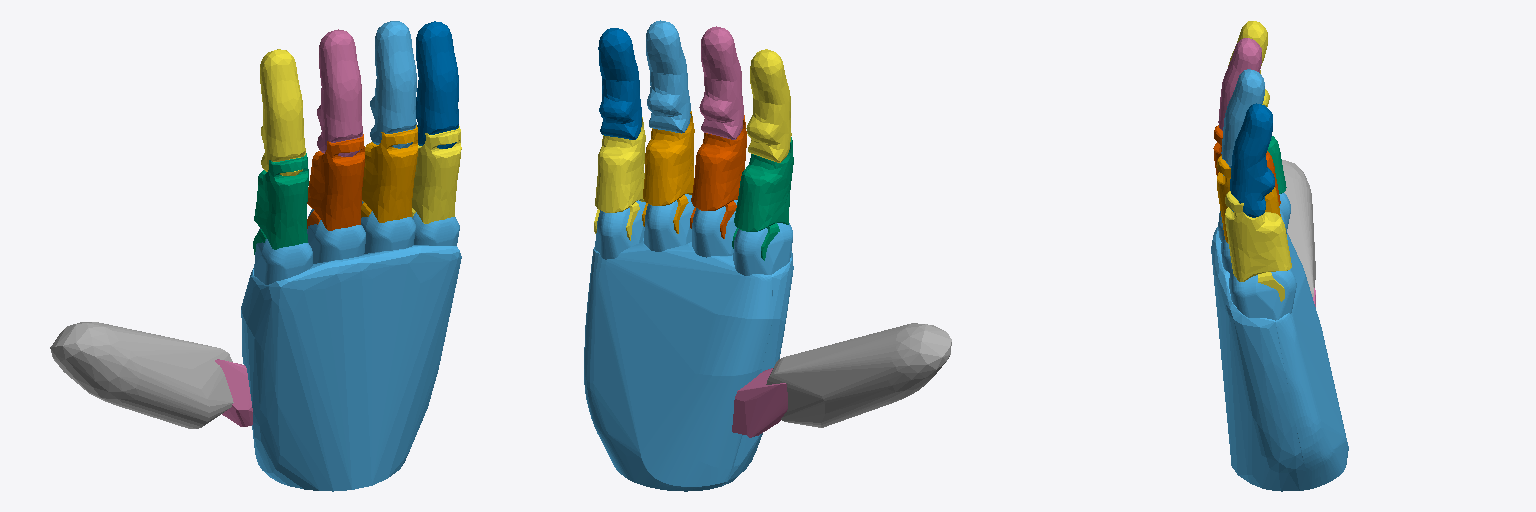
robot.urdf — ability_hand:
<!--
	NOTES:
	Units:
		Distance: m
		Angles: rad (only option)
		Mass: kg
		Inertia: kg*m^2
		
	Notes on intertia:
		-The inertias are calculated for uniform density with weights that may or may not be accurate.
		At the time of this writing only the thumb flexor weight is correct. The palm is a 'best guess' 
		approximation and the fingers are likely off by an order of magnitude
	
	Notes on finger q2:
		-The hand is a 4 bar linkage mechanism forming an 'X'. 4 bar linkages are not supported in the 
		urdf format. The motion of the second finger joint is fully defined by the motion of the first 
		finger joint. The calculation to find the index finger second joint angle given the first is provided
		in a matlab script elsewhere in this repository.
-->
<robot name="ability_hand">


	<link name="base">
		<visual name="wrist_mesh">
			<origin rpy = "0 0 0" xyz = "0 0 0"/>
			<geometry>
				<mesh filename="objects/wristmesh.obj"/>
			</geometry>
		</visual>		
		<inertial>	<!-- the mass and inertia here are NOT correct -->
			<mass value = "0.200"/>
			<inertia ixx="978.26e-6" ixy = "87.34e-6" ixz = "322.99e-6" iyy = "1244.78e-6" iyz = "244.74e-6" izz = "456.22e-6" />
			<origin xyz = "22.41911e-3 -0.15798201e-3 -0.01319866e-3" rpy = "0 0 0"/>
		</inertial>
	</link>
	<joint name="wrist2thumb" type="fixed">
		<parent link="base"/>
		<child link="thumb_base"/>
		<origin xyz = "-24.0476665e-3 3.78124745e-3 32.32964923e-3" rpy = "3.14148426 -0.08848813 -3.14036612"/>
	</joint>
  
	<link name="thumb_base" >
		<inertial>
			<mass value = "0.200"/>
			<inertia ixx="978.26e-6" ixy = "87.34e-6" ixz = "322.99e-6" iyy = "1244.78e-6" iyz = "244.74e-6" izz = "456.22e-6" />
			<origin xyz = "22.41911e-3 -0.15798201e-3 -0.01319866e-3" rpy = "0 0 0"/>
		</inertial>
						
		<visual name="palm_mesh">
			<origin rpy = "0 0 0" xyz = "0 0 0"/>
			<geometry>
				<mesh filename="objects/FB_palm_ref_MIR.obj"/>
			</geometry>
		</visual>		
	</link>
	

	
	<link name="index_L1" >
		<inertial>
			<mass value = "0.00635888"/>
			<inertia ixx="0.29766e-6" ixy = "-0.06447133e-6" ixz = "-0.00423315e-6" iyy = "3.6947967e-6" iyz = "0.00083028e-6" izz = "3.8176336e-6" />
			<origin xyz = "22.41911e-3 -0.15798201e-3 -0.01319866e-3" rpy = "0 0 0"/>
		</inertial>
		<visual name="index_mesh_1">
			<origin rpy = "0 0 0" xyz = "0 0 0"/>
			<geometry>
				<mesh filename="objects/idx-F1.obj"/>
			</geometry>
		</visual>
	</link>
	<link name="index_L2" >
		<inertial>
			<mass value = "0.00645"/>
			<inertia ixx="0.82671e-6" ixy = "-1.08876e-6" ixz = "-0.00037e-6" iyy = "1.98028e-6" iyz = "0.00081e-6" izz = "2.64638e-6" />
			<origin rpy = "0 0 0" xyz = "13.36818e-3 -8.75392e-3 -0.02886e-3"/>
		</inertial>		
		<visual name="index_mesh_2">
			<origin rpy = "0 0 0" xyz = "0 0 0"/>
			<geometry>
				<mesh filename="objects/idx-F2.obj"/>
			</geometry>
		</visual>
	</link>
	<joint name="index_q1" type="revolute">
		<parent link="thumb_base"/>
		<child link="index_L1"/>
		<origin xyz = " 9.49e-3 -13.04e-3 -62.95e-3 " rpy = " -1.1595426535897932 1.284473 -1.0510016535897932 " />
		<axis xyz="0 0 1"/>
		<limit lower = "0" upper = "2.0943951" effort = "6.0" velocity = "8.0677777442"/>		<!-- angles in rad, efforts in N-m, velocity in rad/s -->
		<dynamics damping = "0.001" friction = "0.001" />	<!-- Friction coefficient is not from quantitative measurement -->
	</joint>
	<joint name="index_q2" type="revolute">
		<parent link="index_L1"/>
		<child link="index_L2"/>
		<origin xyz = "38.472723e-3 3.257695e-3 0.000000e-3" rpy = "0 0 0.084474"/>
		<axis xyz="0 0 1"/>
		<limit lower = "0.0" upper = "2.6586" effort = "6.0" velocity = "8.0677777442"/>		<!-- angles in rad, efforts in N-m, velocity in rad/s -->
		<dynamics damping = "0.001" friction = "0.001" />	<!-- Friction coefficient is not from quantitative measurement -->
		<mimic joint = "index_q1" multiplier =  "1.05851325" offset = "0.72349796"/>
	</joint>
	<link name="index_anchor"/>
	<joint name="idx_anchor" type="fixed">
		<parent link = "index_L2"/>
		<child link = "index_anchor"/>
		<origin rpy = "0 0 0" xyz = "31.5541e-3  -10.44e-3 0.14e-3"/>
	</joint>
	

	<link name="middle_L1" >
		<inertial>
			<mass value = "0.00635888"/>
			<inertia ixx="0.29766e-6" ixy = "-0.06447133e-6" ixz = "-0.00423315e-6" iyy = "3.6947967e-6" iyz = "0.00083028e-6" izz = "3.8176336e-6" />
			<origin xyz = "22.41911e-3 -0.15798201e-3 -0.01319866e-3" rpy = "0 0 0"/>
		</inertial>
		
		<visual name="middle_mesh_1">
			<origin rpy = "0 0 0" xyz = "0 0 0"/>
			<geometry>
				<mesh filename="objects/idx-F1.obj"/>
			</geometry>
		</visual>
		
	</link>
	<link name="middle_L2" >
		<inertial>
			<mass value = "0.00645"/>
			<inertia ixx="0.82671e-6" ixy = "-1.08876e-6" ixz = "-0.00037e-6" iyy = "1.98028e-6" iyz = "0.00081e-6" izz = "2.64638e-6" />
			<origin rpy = "0 0 0" xyz = "13.36818e-3 -8.75392e-3 -0.02886e-3"/>
		</inertial>
		<visual name="middle_mesh_2">
			<origin rpy = "0 0 0" xyz = "0 0 0"/>
			<geometry>
				<mesh filename="objects/idx-F2.obj"/>
			</geometry>
		</visual>
	</link>
	<joint name="middle_q1" type="revolute">
		<parent link="thumb_base"/>
		<child link="middle_L1"/>
		<origin xyz = " -9.653191e-3 -15.310271e-3 -67.853949e-3 " rpy = " -1.2810616535897934 1.308458 -1.2453756535897933 " />
		<limit lower = "0" upper = "2.0943951" effort = "6.0" velocity = "8.0677777442"/>		<!-- angles in rad, efforts in N-m, velocity in rad/s -->
		<dynamics damping = "0.001" friction = "0.001" />	<!-- Friction coefficient is not from quantitative measurement -->
		<axis xyz="0 0 1"/>
	</joint>
	<joint name="middle_q2" type="revolute">
		<parent link="middle_L1"/>
		<child link="middle_L2"/>
		<origin xyz = "38.472723e-3 3.257695e-3 0.000000" rpy = "0 0 0.084474"/>
		<axis xyz="0 0 1"/>
		<limit lower = "0.0" upper = "2.6586" effort = "6.0" velocity = "8.0677777442"/>		<!-- angles in rad, efforts in N-m, velocity in rad/s -->
		<dynamics damping = "0.001" friction = "0.001" />	<!-- Friction coefficient is not from quantitative measurement -->
		<mimic joint = "middle_q1" multiplier =  "1.05851325" offset = "0.72349796"/>
	</joint>
	<link name="middle_anchor"/>
	<joint name="mid_anchor" type="fixed">
		<parent link = "middle_L2"/>
		<child link = "middle_anchor"/>
		<origin rpy = "0 0 0" xyz = "31.5541e-3  -10.44e-3 0.14e-3"/>
	</joint>





	<link name="ring_L1" >
		<inertial>
			<mass value = "0.00635888"/>
			<inertia ixx="0.29766e-6" ixy = "-0.06447133e-6" ixz = "-0.00423315e-6" iyy = "3.6947967e-6" iyz = "0.00083028e-6" izz = "3.8176336e-6" />
			<origin xyz = "22.41911e-3 -0.15798201e-3 -0.01319866e-3" rpy = "0 0 0"/>
		</inertial>
		
		<visual name="ring_mesh_1">
			<origin rpy = "0 0 0" xyz = "0 0 0"/>
			<geometry>
				<mesh filename="objects/idx-F1.obj"/>
			</geometry>
		</visual>
	</link>
	<link name="ring_L2" >
		<inertial>
			<mass value = "0.00645"/>
			<inertia ixx="0.82671e-6" ixy = "-1.08876e-6" ixz = "-0.00037e-6" iyy = "1.98028e-6" iyz = "0.00081e-6" izz = "2.64638e-6" />
			<origin rpy = "0 0 0" xyz = "13.36818e-3 -8.75392e-3 -0.02886e-3"/>
		</inertial>
		<visual name="ring_mesh_2">
			<origin rpy = "0 0 0" xyz = "0 0 0"/>
			<geometry>
				<mesh filename="objects/idx-F2.obj"/>
			</geometry>
		</visual>		
	</link>
	<joint name="ring_q1" type="revolute">
		<parent link="thumb_base"/>
		<child link="ring_L1"/>
		<origin xyz = " -29.95426e-3 -14.212492e-3 -67.286105e-3 " rpy = " -1.424994653589793 1.321452 -1.4657306535897934 " />
		<limit lower = "0" upper = "2.0943951" effort = "6.0" velocity = "8.0677777442"/>		<!-- angles in rad, efforts in N-m, velocity in rad/s -->
		<dynamics damping = "0.001" friction = "0.001" />	<!-- Friction coefficient is not from quantitative measurement -->
		<axis xyz="0 0 1"/>
	</joint>
	<joint name="ring_q2" type="revolute">
		<parent link="ring_L1"/>
		<child link="ring_L2"/>
		<origin xyz = "38.472723e-3 3.257695e-3 0.000000" rpy = "0 0 0.084474"/>
		<axis xyz="0 0 1"/>
		<limit lower = "0.0" upper = "2.6586" effort = "6.0" velocity = "8.0677777442"/>		<!-- angles in rad, efforts in N-m, velocity in rad/s -->
		<dynamics damping = "0.001" friction = "0.001" />	<!-- Friction coefficient is not from quantitative measurement -->
		<mimic joint = "ring_q1" multiplier =  "1.05851325" offset = "0.72349796"/>
	</joint>
	<link name="ring_anchor"/>
	<joint name="rng_anchor" type="fixed">
		<parent link = "ring_L2"/>
		<child link = "ring_anchor"/>
		<origin rpy = "0 0 0" xyz = "31.5541e-3  -10.44e-3 0.14e-3"/>
	</joint>







	<link name="pinky_L1" >
		<inertial>
			<mass value = "0.00635888"/>
			<inertia ixx="0.29766e-6" ixy = "-0.06447133e-6" ixz = "-0.00423315e-6" iyy = "3.6947967e-6" iyz = "0.00083028e-6" izz = "3.8176336e-6" />
			<origin xyz = "22.41911e-3 -0.15798201e-3 -0.01319866e-3" rpy = "0 0 0"/>
		</inertial>
		
		<visual name="pinky_mesh_1">
			<origin rpy = "0 0 0" xyz = "0 0 0"/>
			<geometry>
				<mesh filename="objects/idx-F1.obj"/>
			</geometry>
		</visual>
		
	</link>
	<link name="pinky_L2" >
		<inertial>
			<mass value = "0.00645"/>
			<inertia ixx="0.82671e-6" ixy = "-1.08876e-6" ixz = "-0.00037e-6" iyy = "1.98028e-6" iyz = "0.00081e-6" izz = "2.64638e-6" />
			<origin rpy = "0 0 0" xyz = "13.36818e-3 -8.75392e-3 -0.02886e-3"/>
		</inertial>
		<visual name="pinky_mesh_2">
			<origin rpy = "0 0 0" xyz = "0 0 0"/>
			<geometry>
				<mesh filename="objects/idx-F2.obj"/>
			</geometry>
		</visual>
		
	</link>
	<joint name="pinky_q1" type="revolute">
		<parent link="thumb_base"/>
		<child link="pinky_L1"/>
		<origin xyz = " -49.521293e-3 -11.004583e-3 -63.029065e-3 " rpy = " -1.3764826535897934 1.32222 -1.4832096535897932 " />
		<limit lower = "0" upper = "2.0943951" effort = "6.0" velocity = "8.0677777442"/>		<!-- angles in rad, efforts in N-m, velocity in rad/s -->
		<dynamics damping = "0.001" friction = "0.001" />	<!-- Friction coefficient is not from quantitative measurement -->
		<axis xyz="0 0 1"/>
	</joint>
	<joint name="pinky_q2" type="revolute">
		<parent link="pinky_L1"/>
		<child link="pinky_L2"/>
		<origin xyz = "38.472723e-3 3.257695e-3 0.000000" rpy = "0 0 0.084474"/>
		<limit lower = "0.0" upper = "2.6586" effort = "6.0" velocity = "8.0677777442"/>		<!-- angles in rad, efforts in N-m, velocity in rad/s -->
		<dynamics damping = "0.001" friction = "0.001" />	<!-- Friction coefficient is not from quantitative measurement -->
		<axis xyz="0 0 1"/>
		<mimic joint = "pinky_q1" multiplier =  "1.05851325" offset = "0.72349796"/>
	</joint>
	<link name="pinky_anchor"/>
	<joint name="pnky_anchor" type="fixed">
		<parent link = "pinky_L2"/>
		<child link = "pinky_anchor"/>
		<origin rpy = "0 0 0" xyz = "31.5541e-3  -10.44e-3 0.14e-3"/>
	</joint>






	<link name="thumb_L1" >
		<inertial>
			<mass value = "0.00268342"/>
			<inertia ixx="0.16931e-6" ixy = "-0.076214e-6" ixz = "-0.16959148e-6" iyy = "0.77769934e-6" iyz = "0.0156622e-6" izz = "0.7249122e-6" />
			<origin rpy = "0 0 0" xyz = "14.606e-3 -1.890854e-3 -3.1155356e-3"/>
		</inertial>
		
		<visual name="thumb_mesh_1">
			<origin rpy = "0 0 0" xyz = "0 0 0"/>
			<geometry>
				<mesh filename="objects/thumb-F1-MIR.obj"/>
			</geometry>
		</visual>
		
	</link>
	<link name="thumb_L2" >
		<inertial>
			<mass value = "0.0055"/>
			<inertia ixx="4.4789082e-6" ixy = "4.4789082e-6" ixz = "-0.62144934e-6" iyy = "15.600996e-6" iyz = "-0.07466143e-6" izz = "17.908554e-6" />
			<origin rpy = "0 0 0" xyz = "30.020522e-3 5.59476e-3 -4.1504356e-3"/>
		</inertial>
		
		<visual name="thumb_mesh_2">
			<origin rpy = "0 0 0" xyz = "0 0 0"/>
			<geometry>
				<mesh filename="objects/thumb-F2-right.obj"/>
			</geometry>
		</visual>
		
	</link>
	<joint name="thumb_q1" type="revolute">
		<parent link="thumb_base"/>
		<child link="thumb_L1"/>
		<origin xyz = " 0.0 0.0 0.0 " rpy = " 3.141592653589793 -0.0 -0.18884434641020664 " />
		<axis xyz="0 0 1"/>
		<limit lower = "-2.0943951" upper = "0" effort = "1.2" velocity = "40.338888721"/>		<!-- angles in rad, efforts in N-m, velocity in rad/s -->
		<dynamics damping = "0.001" friction = "0.001" />	<!-- Friction coefficient is not from quantitative measurement -->
	</joint>
	<joint name="thumb_q2" type="revolute">
		<parent link="thumb_L1"/>
		<child link="thumb_L2"/>
		<origin xyz = " 27.8283501e-3 1.7436510745838653e-19 14.7507e-3 " rpy = " 1.832595714594045 -0.0 5.366520605522463e-18 " />
		<axis xyz="0 0 1"/>
		<limit lower = "0" upper = "2.0943951" effort = "6.0" velocity = "8.0677777442"/>		<!-- angles in rad, efforts in N-m, velocity in rad/s -->
		<dynamics damping = "0.001" friction = "0.001" />	<!-- Friction coefficient is not from quantitative measurement -->		
	</joint>
	<link name="thumb_anchor"/>
	<joint name="thmb_anchor" type="fixed">
		<parent link = "thumb_L2"/>
		<child link = "thumb_anchor"/>
		<origin rpy = "0 0 0" xyz = "52.00122724e-3 28.00869333e-3 6.98483578e-3"/>
	</joint>

	<sensor name="fsr1">

		<parent link = "index_L2"/>

		<origin xyz = "[ 0.03095037 -0.01554447  0.        ]" rpy = "[-1.57079633  1.17944437 -1.57079633]"/>

	</sensor>


	<sensor name="fsr2">

		<parent link = "index_L2"/>

		<origin xyz = "[ 0.02510623 -0.01157959  0.        ]" rpy = "[ 1.57079633 -0.25241514  1.57079633]"/>

	</sensor>


	<sensor name="fsr3">

		<parent link = "index_L2"/>

		<origin xyz = "[ 0.02702797 -0.01495401  0.004     ]" rpy = "[-1.57079633  0.50535705 -1.57079633]"/>

	</sensor>


	<sensor name="fsr4">

		<parent link = "index_L2"/>

		<origin xyz = "[ 0.01284956 -0.00967365  0.004     ]" rpy = "[-1.57079633  0.64531527 -1.57079633]"/>

	</sensor>


	<sensor name="fsr5">

		<parent link = "index_L2"/>

		<origin xyz = "[ 0.02702797 -0.01495401 -0.004     ]" rpy = "[-1.57079633  0.50535705 -1.57079633]"/>

	</sensor>


	<sensor name="fsr6">

		<parent link = "index_L2"/>

		<origin xyz = "[ 0.02702797 -0.01495401 -0.004     ]" rpy = "[-1.57079633  0.50535705 -1.57079633]"/>

	</sensor>


	<sensor name="fsr7">

		<parent link = "middle_L2"/>

		<origin xyz = "[ 0.03095037 -0.01554447  0.        ]" rpy = "[-1.57079633  1.17944437 -1.57079633]"/>

	</sensor>


	<sensor name="fsr8">

		<parent link = "middle_L2"/>

		<origin xyz = "[ 0.02510623 -0.01157959  0.        ]" rpy = "[ 1.57079633 -0.25241514  1.57079633]"/>

	</sensor>


	<sensor name="fsr9">

		<parent link = "middle_L2"/>

		<origin xyz = "[ 0.02702797 -0.01495401  0.004     ]" rpy = "[-1.57079633  0.50535705 -1.57079633]"/>

	</sensor>


	<sensor name="fsr10">

		<parent link = "middle_L2"/>

		<origin xyz = "[ 0.01284956 -0.00967365  0.004     ]" rpy = "[-1.57079633  0.64531527 -1.57079633]"/>

	</sensor>


	<sensor name="fsr11">

		<parent link = "middle_L2"/>

		<origin xyz = "[ 0.02702797 -0.01495401 -0.004     ]" rpy = "[-1.57079633  0.50535705 -1.57079633]"/>

	</sensor>


	<sensor name="fsr12">

		<parent link = "middle_L2"/>

		<origin xyz = "[ 0.02702797 -0.01495401 -0.004     ]" rpy = "[-1.57079633  0.50535705 -1.57079633]"/>

	</sensor>


	<sensor name="fsr13">

		<parent link = "ring_L2"/>

		<origin xyz = "[ 0.03095037 -0.01554447  0.        ]" rpy = "[-1.57079633  1.17944437 -1.57079633]"/>

	</sensor>


	<sensor name="fsr14">

		<parent link = "ring_L2"/>

		<origin xyz = "[ 0.02510623 -0.01157959  0.        ]" rpy = "[ 1.57079633 -0.25241514  1.57079633]"/>

	</sensor>


	<sensor name="fsr15">

		<parent link = "ring_L2"/>

		<origin xyz = "[ 0.02702797 -0.01495401  0.004     ]" rpy = "[-1.57079633  0.50535705 -1.57079633]"/>

	</sensor>


	<sensor name="fsr16">

		<parent link = "ring_L2"/>

		<origin xyz = "[ 0.01284956 -0.00967365  0.004     ]" rpy = "[-1.57079633  0.64531527 -1.57079633]"/>

	</sensor>


	<sensor name="fsr17">

		<parent link = "ring_L2"/>

		<origin xyz = "[ 0.02702797 -0.01495401 -0.004     ]" rpy = "[-1.57079633  0.50535705 -1.57079633]"/>

	</sensor>


	<sensor name="fsr18">

		<parent link = "ring_L2"/>

		<origin xyz = "[ 0.02702797 -0.01495401 -0.004     ]" rpy = "[-1.57079633  0.50535705 -1.57079633]"/>

	</sensor>


	<sensor name="fsr19">

		<parent link = "pinky_L2"/>

		<origin xyz = "[ 0.03095037 -0.01554447  0.        ]" rpy = "[-1.57079633  1.17944437 -1.57079633]"/>

	</sensor>


	<sensor name="fsr20">

		<parent link = "pinky_L2"/>

		<origin xyz = "[ 0.02510623 -0.01157959  0.        ]" rpy = "[ 1.57079633 -0.25241514  1.57079633]"/>

	</sensor>


	<sensor name="fsr21">

		<parent link = "pinky_L2"/>

		<origin xyz = "[ 0.02702797 -0.01495401  0.004     ]" rpy = "[-1.57079633  0.50535705 -1.57079633]"/>

	</sensor>


	<sensor name="fsr22">

		<parent link = "pinky_L2"/>

		<origin xyz = "[ 0.01284956 -0.00967365  0.004     ]" rpy = "[-1.57079633  0.64531527 -1.57079633]"/>

	</sensor>


	<sensor name="fsr23">

		<parent link = "pinky_L2"/>

		<origin xyz = "[ 0.02702797 -0.01495401 -0.004     ]" rpy = "[-1.57079633  0.50535705 -1.57079633]"/>

	</sensor>


	<sensor name="fsr24">

		<parent link = "pinky_L2"/>

		<origin xyz = "[ 0.02702797 -0.01495401 -0.004     ]" rpy = "[-1.57079633  0.50535705 -1.57079633]"/>

	</sensor>


	<sensor name="fsr25">

		<parent link = "thumb_L2"/>

		<origin xyz = "[0.055422 0.023513 0.005055]" rpy = "[-1.57079633 -0.40123853 -1.57079633]"/>

	</sensor>


	<sensor name="fsr26">

		<parent link = "thumb_L2"/>

		<origin xyz = "[0.047909 0.02312  0.005728]" rpy = "[-1.57079633 -0.44961601 -1.57079633]"/>

	</sensor>


	<sensor name="fsr27">

		<parent link = "thumb_L2"/>

		<origin xyz = "[ 0.048227  0.022352 -0.000805]" rpy = "[-1.57079633 -0.43229053 -1.57079633]"/>

	</sensor>


	<sensor name="fsr28">

		<parent link = "thumb_L2"/>

		<origin xyz = "[ 0.036868  0.017111 -0.001369]" rpy = "[nan nan nan]"/>

	</sensor>


	<sensor name="fsr29">

		<parent link = "thumb_L2"/>

		<origin xyz = "[0.049435 0.019437 0.01097 ]" rpy = "[-1.57079633 -0.44946695 -1.57079633]"/>

	</sensor>


	<sensor name="fsr30">

		<parent link = "thumb_L2"/>

		<origin xyz = "[0.038158 0.013997 0.011211]" rpy = "[nan nan nan]"/>

	</sensor>




</robot>

--- What the picture shows (computed from the rendered views, not written in the file) ---
3 views of the same robot in one strip: view 1: azimuth 30°, elevation 25°; view 2: azimuth 150°, elevation 25°; view 3: azimuth 270°, elevation 25° (orthographic).
Model ability_hand with 17 links and 16 joints (10 revolute, 6 fixed), rooted at base, posed every joint at zero.
Visible links, largest first — view 1: thumb_base, thumb_L2, ring_L2, middle_L2, pinky_L2, index_L2, middle_L1, ring_L1, index_L1, pinky_L1, thumb_L1; view 2: thumb_base, thumb_L2, ring_L2, middle_L2, index_L2, pinky_L2, index_L1, ring_L1, middle_L1, pinky_L1, thumb_L1; view 3: thumb_base, pinky_L1, pinky_L2, thumb_L2, ring_L2, middle_L2, ring_L1, index_L2.
Boxes of the visible links, <box> form: thumb_base: <box>241,201,461,491</box>; thumb_L2: <box>50,322,233,428</box>; ring_L2: <box>370,21,416,148</box>; middle_L2: <box>317,29,362,156</box>; pinky_L2: <box>416,21,458,148</box>; index_L2: <box>260,49,305,175</box>; middle_L1: <box>307,134,364,230</box>; ring_L1: <box>361,125,417,222</box>; index_L1: <box>253,153,308,254</box>; pinky_L1: <box>412,126,461,223</box>; thumb_L1: <box>215,359,252,426</box>; thumb_base: <box>584,194,793,491</box>; thumb_L2: <box>766,323,951,427</box>; ring_L2: <box>646,20,690,133</box>; middle_L2: <box>699,26,743,139</box>; index_L2: <box>746,49,791,162</box>; pinky_L2: <box>598,28,641,139</box>; index_L1: <box>732,137,793,260</box>; ring_L1: <box>642,111,694,233</box>; middle_L1: <box>690,115,746,238</box>; pinky_L1: <box>594,117,645,240</box>; thumb_L1: <box>732,368,787,437</box>; thumb_base: <box>1211,193,1348,491</box>; pinky_L1: <box>1225,191,1291,301</box>; pinky_L2: <box>1230,103,1274,217</box>; thumb_L2: <box>1282,160,1315,296</box>; ring_L2: <box>1221,69,1264,175</box>; middle_L2: <box>1218,38,1261,130</box>; ring_L1: <box>1216,155,1280,242</box>; index_L2: <box>1228,21,1269,106</box>.
Size in the robot's own frame: 0.1566 by 0.053 by 0.1779 metres.
Meshes: 6 distinct files referenced, 12 mesh visuals loaded (6 OBJ).